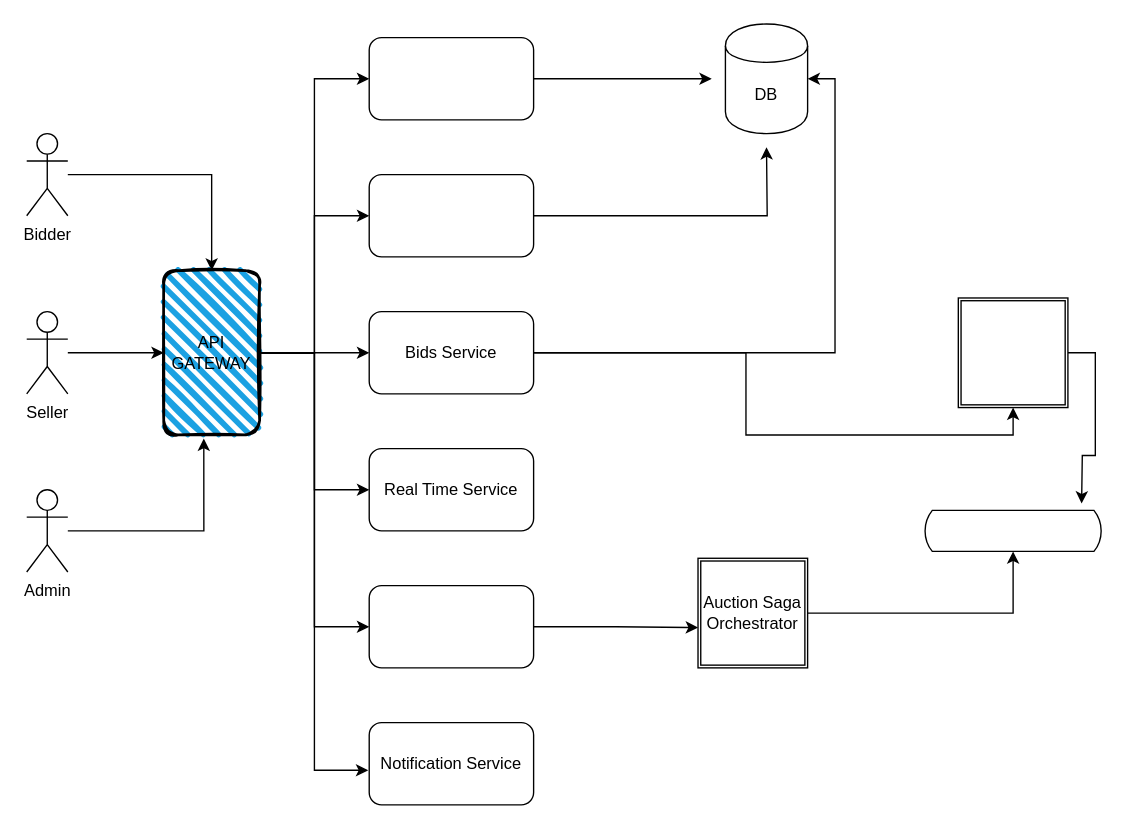
Image size: 1130x829. Some labels were removed from this diagram. Here are the shapes that lost their labels. From the top down, the box of each, then its label:
(368, 36, 534, 120): Auth Service
(368, 173, 534, 257): Items Service
(957, 297, 1068, 408): Bids Saga Orchestrator
(923, 509, 1102, 551): Event Broker
(368, 584, 534, 668): Auction Service
